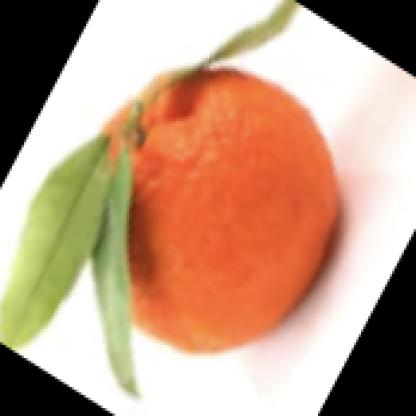fresh: (95, 67, 343, 357)
